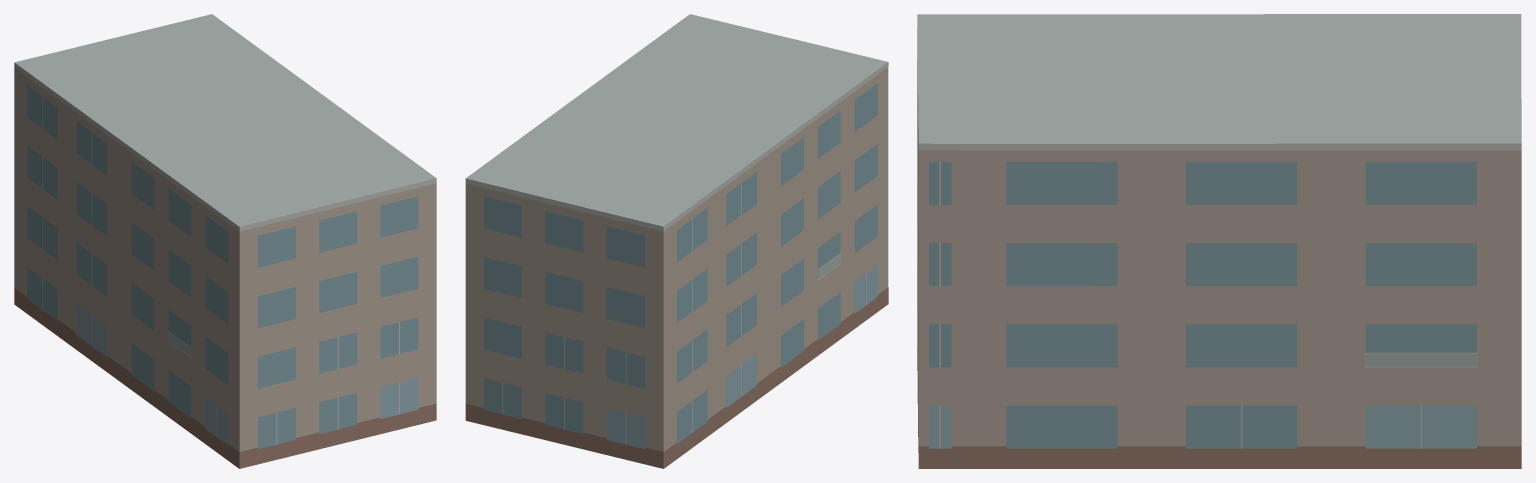
Rendered from survey-upis-32690328.glb.
The picture shows the model from 3 angles, left to right: view 1: azimuth 30°, elevation 25°; view 2: azimuth 150°, elevation 25°; view 3: azimuth 270°, elevation 25°; orthographic projection. The views are drawn at different scales.
Visible parts, largest first — view 1: survey-upis-32690328.tmp; view 2: survey-upis-32690328.tmp; view 3: survey-upis-32690328.tmp.
Part boxes in pixels (x1=…): survey-upis-32690328.tmp: x1=14, y1=14, x2=436, y2=468; survey-upis-32690328.tmp: x1=465, y1=14, x2=888, y2=468; survey-upis-32690328.tmp: x1=917, y1=14, x2=1521, y2=468.
Size of the model in its own units: 10.46 by 12.14 by 20.47.
